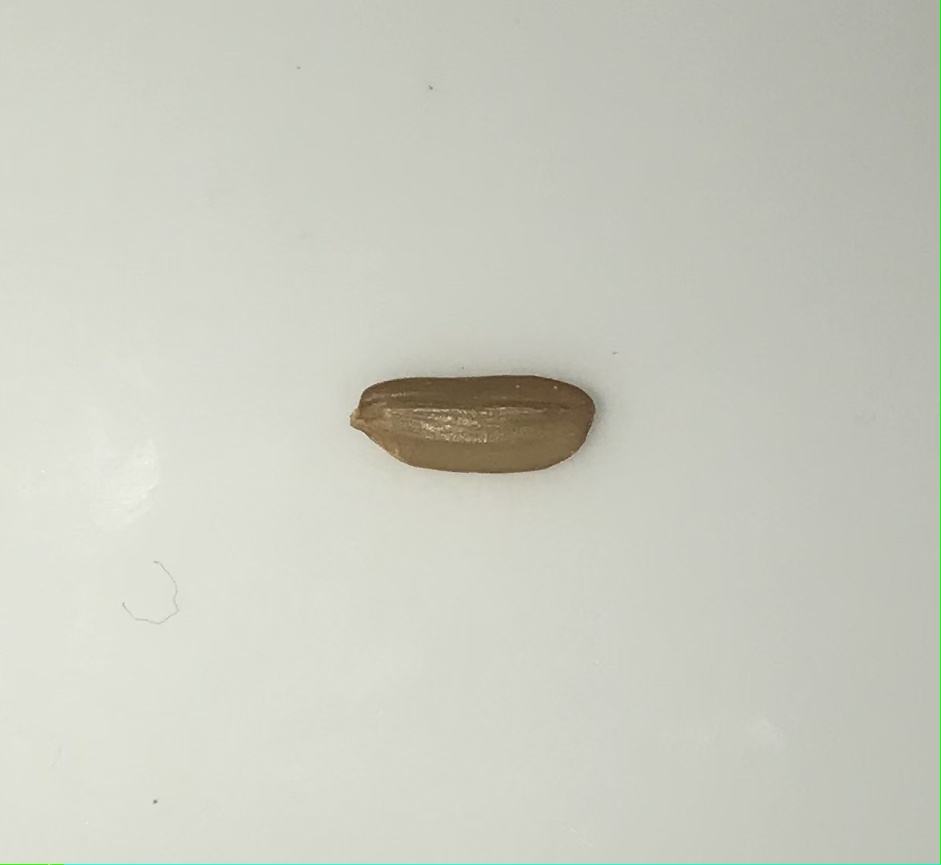Gao Lut Dien Bien: (348, 368, 600, 484)
